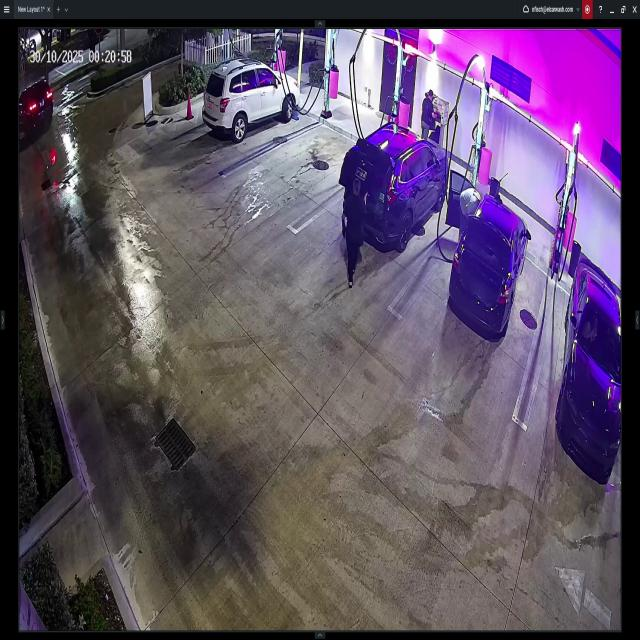Car: (450, 168, 529, 342), (342, 123, 448, 251), (559, 260, 620, 479), (203, 60, 299, 141), (18, 77, 54, 133)
